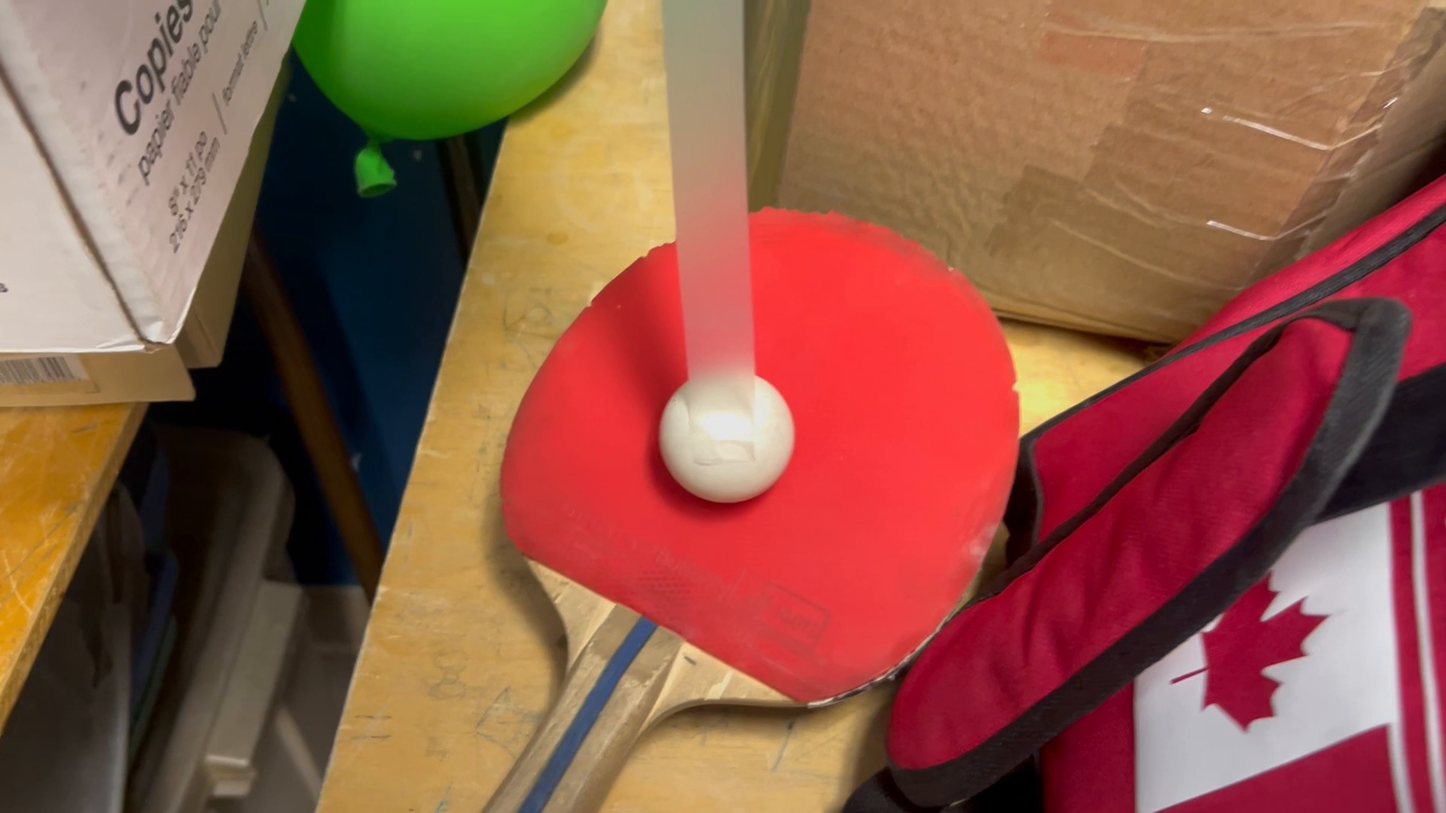Ball: (633, 370, 808, 497)
